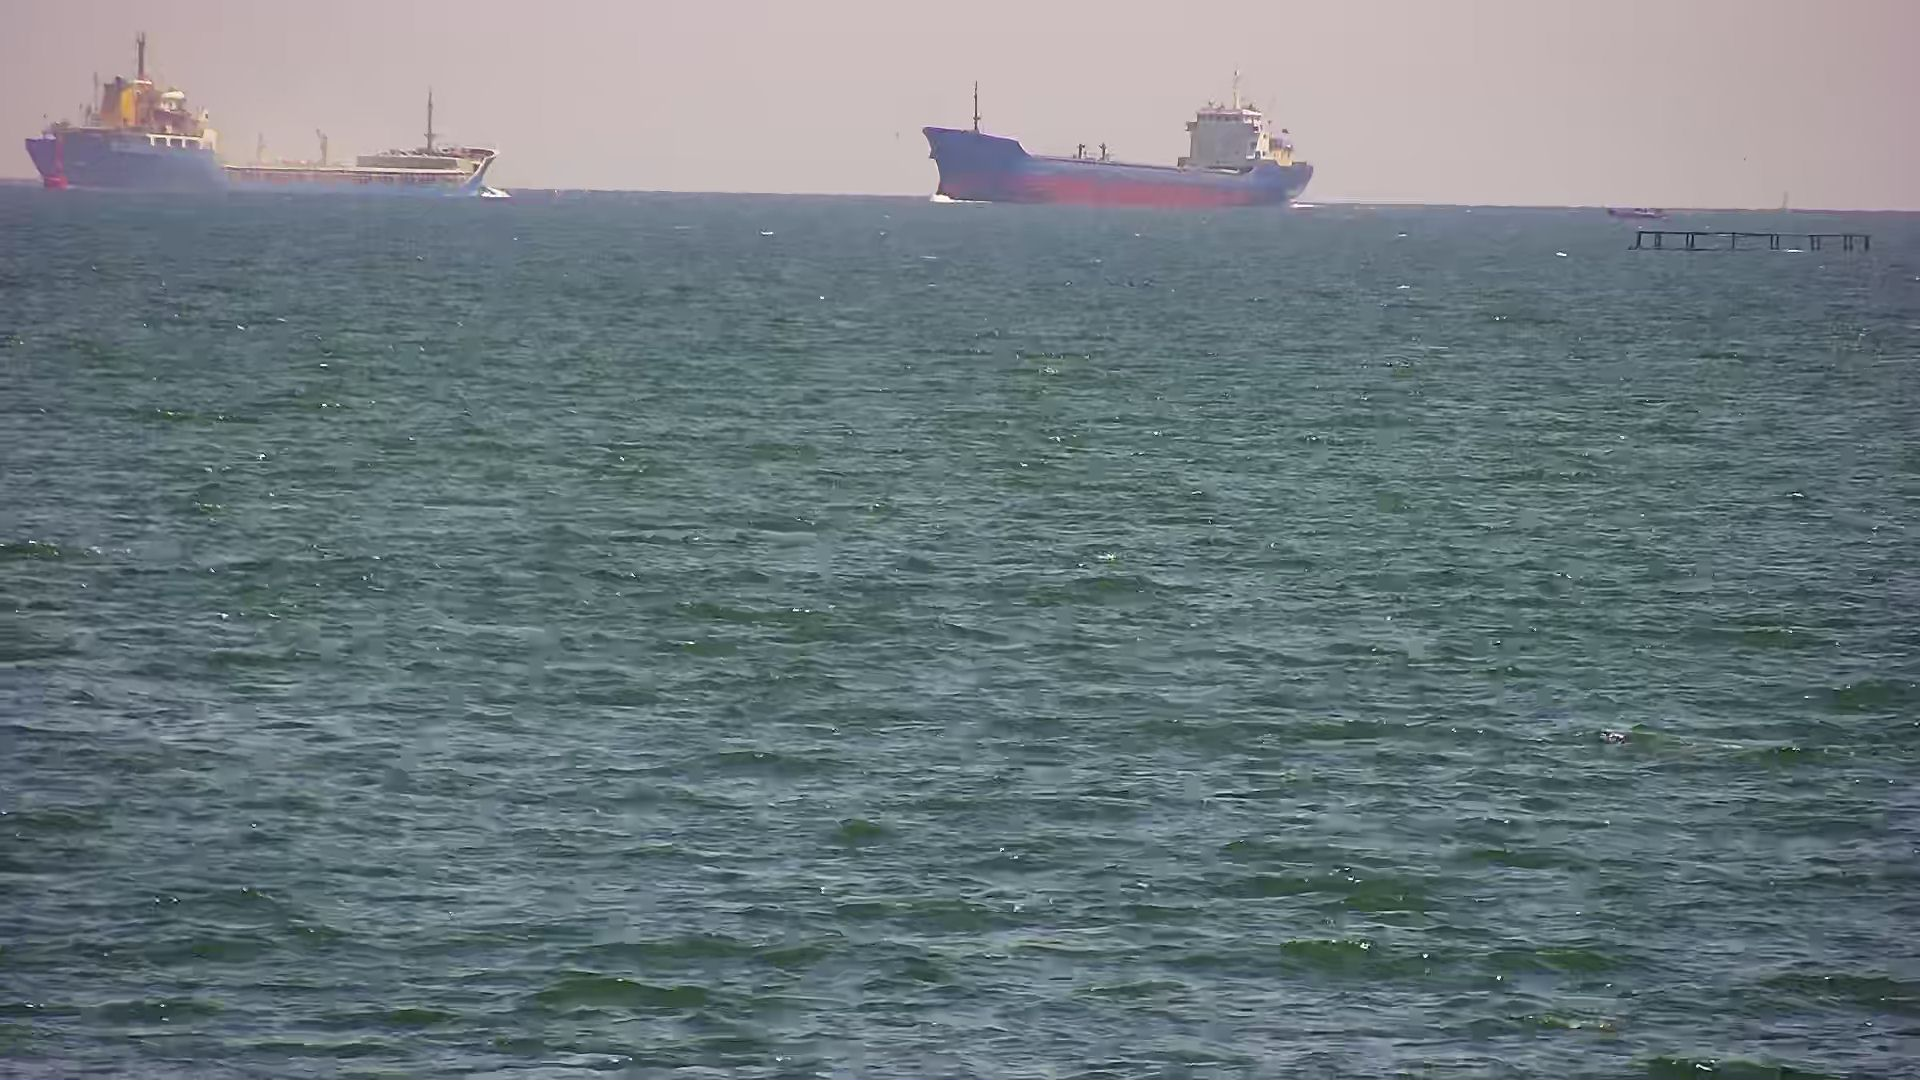boat: (1600, 191, 1668, 222)
platform: (1613, 219, 1888, 262)
ship: (11, 22, 539, 218), (923, 54, 1349, 212)
